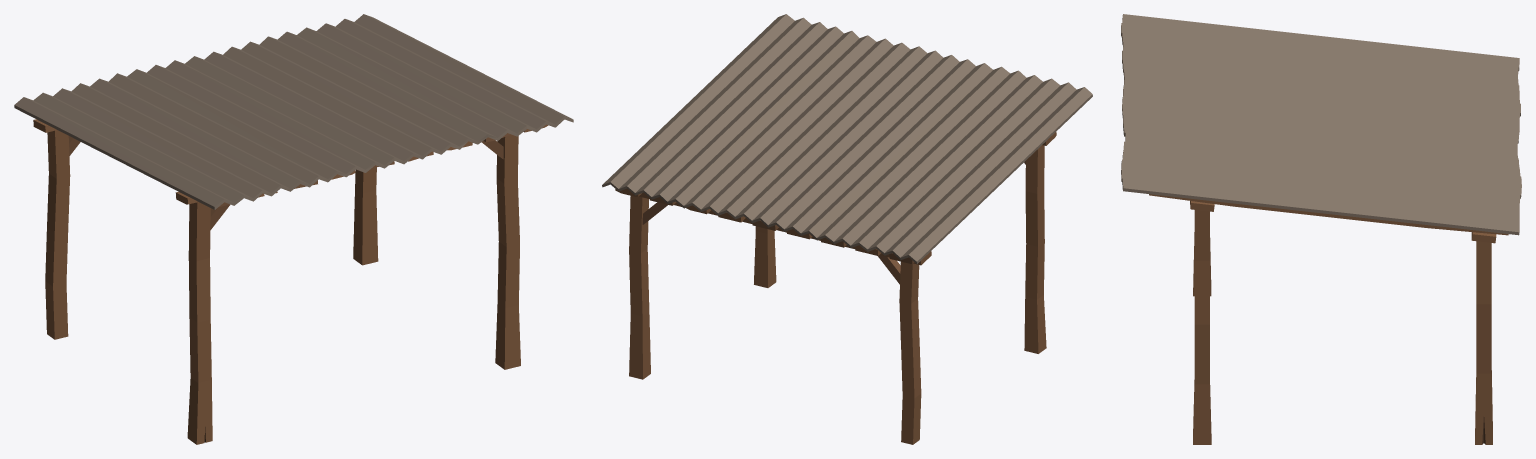
Rendered from Mesh_Buildings_Roof_01.FBX.
3 views of the same model, side by side, from view 1: azimuth 30°, elevation 25°; view 2: azimuth 150°, elevation 25°; view 3: azimuth 270°, elevation 25° (orthographic). The views are drawn at different scales.
Visible parts, largest first — view 1: Mesh_Buildings_Roof_01; view 2: Mesh_Buildings_Roof_01; view 3: Mesh_Buildings_Roof_01.
Part boxes in pixels (box(x1,y1,x2,y2)): Mesh_Buildings_Roof_01: box(14, 14, 573, 444); Mesh_Buildings_Roof_01: box(602, 14, 1092, 444); Mesh_Buildings_Roof_01: box(1121, 14, 1521, 444).
Bounding box in the file's own units: 372 × 364 × 271.
